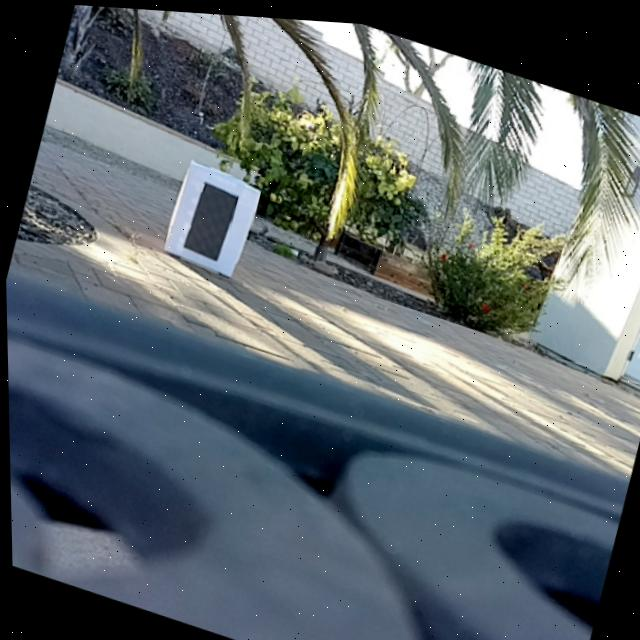led: (180, 176, 239, 261)
